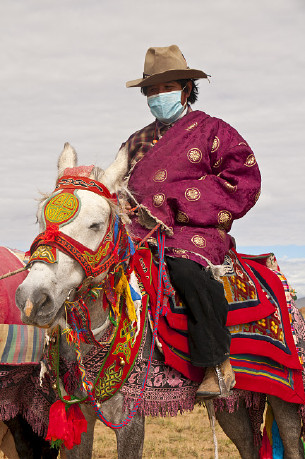face_mask: (147, 80, 181, 124)
